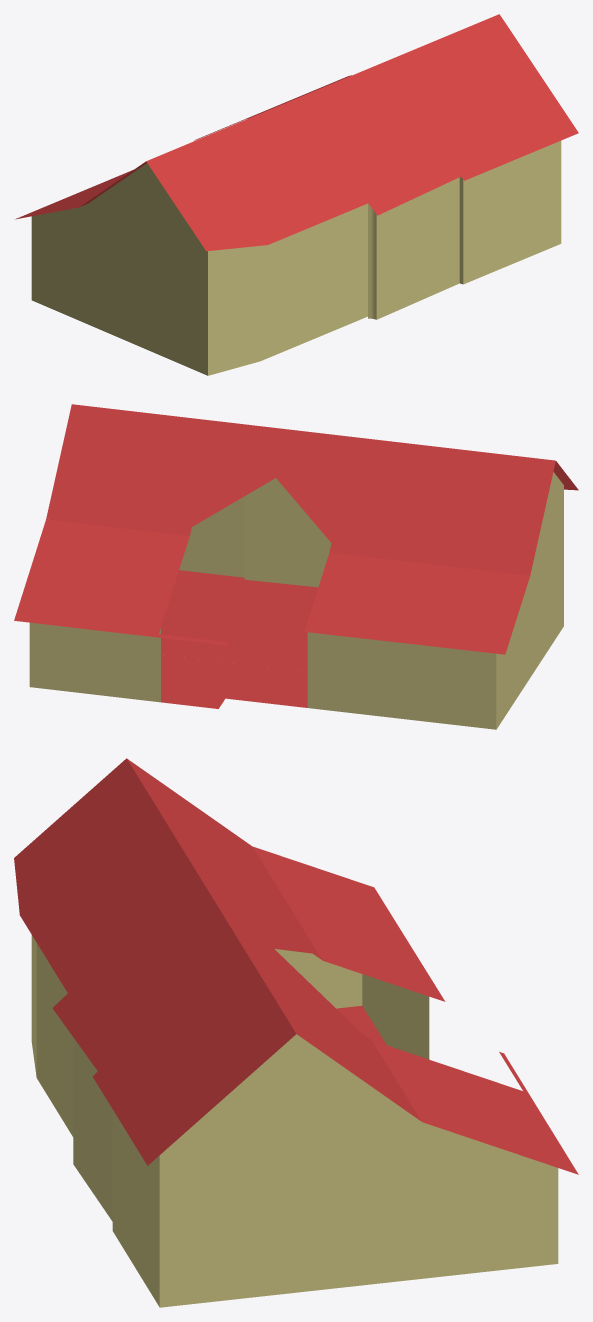
The picture shows the model from 3 angles, top to bottom: view 1: azimuth 30°, elevation 25°; view 2: azimuth 150°, elevation 25°; view 3: azimuth 270°, elevation 25°; orthographic projection. The views are drawn at different scales.
Bounding box in the file's own units: 33.45 × 25 × 12.98.
